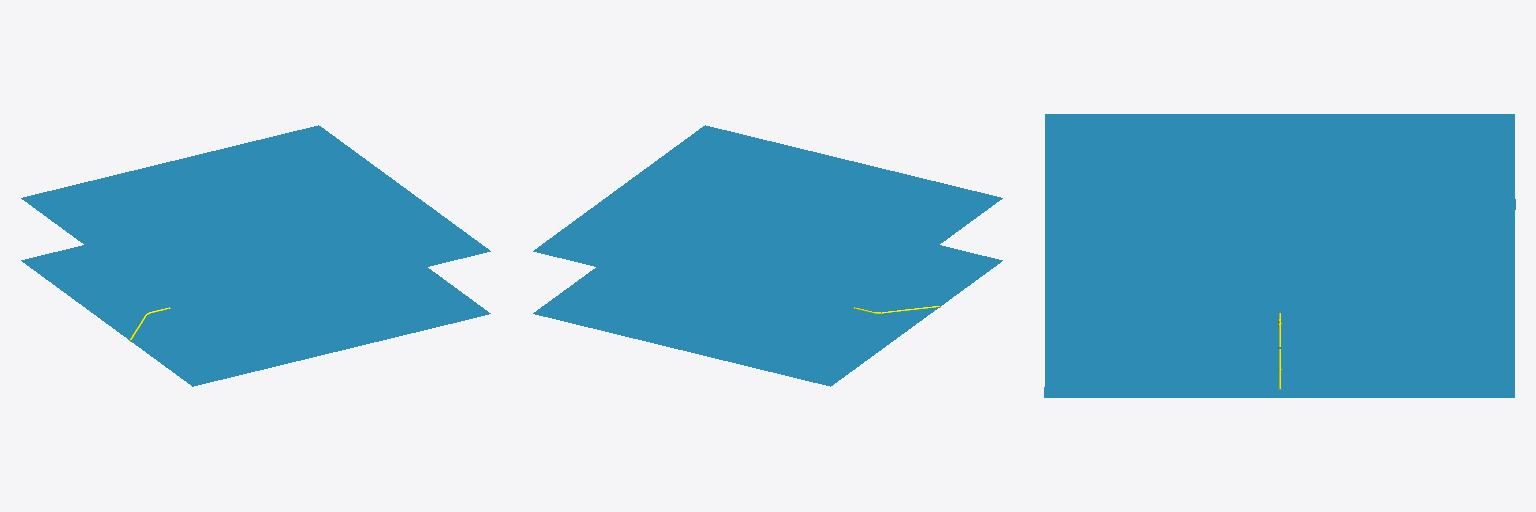
The robot description file, URDF, robot "min_world":
<?xml version="1.0"?>

<robot name="min_world">

    <link name="base_link">
        <visual>
            <geometry>
                <mesh filename="package://remaro_worlds/models/terrains/min_world.dae"/>
            </geometry>
            <origin rpy="0 0 1.57" xyz="0 0 -20"/>
        </visual>
        <collision>
            <geometry>
                <mesh filename="package://remaro_worlds/models/terrains/min_world.dae"/>
            </geometry>
            <origin rpy="0 0 1.57" xyz="0 0 -20"/>
        </collision>
        <inertial>
            <mass value="1" />
            <origin xyz="0 0 0" rpy="0 0 0" />
            <inertia ixx="1" ixy="0" ixz="0" iyy="1" iyz="0" izz="1" />
        </inertial>        
    </link>

    <link name="surface">
        <visual>
            <geometry>
                <mesh filename="package://remaro_worlds/models/water/min_world.dae"/>
            </geometry>
            <origin rpy="0 0 0" xyz="0 0 0"/>
        </visual>
        <collision>
            <geometry>
                <mesh filename="package://remaro_worlds/models/water/min_world.dae"/>
            </geometry>
            <origin rpy="0 0 0" xyz="0 0 0"/>
        </collision>
        <inertial>
            <mass value="1" />
            <origin xyz="0 0 0" rpy="0 0 0" />
            <inertia ixx="1" ixy="0" ixz="0" iyy="1" iyz="0" izz="1" />
        </inertial>  
    </link>

    <joint name="base_to_surface" type="fixed">
        <parent link="base_link"/>
        <child link="surface"/>
        <origin xyz="0 0 0"/>
    </joint>

    <link name="anchor">
        <visual>
            <geometry>
                <mesh filename="package://remaro_worlds/models/objects/anchor.dae"/>
            </geometry>
            <origin rpy="2.9 0.53 0.96" xyz="-13 -1.5 -20"/>
        </visual>
        <collision>
            <geometry>
                <mesh filename="package://remaro_worlds/models/objects/anchor.dae"/>
            </geometry>
            <origin rpy="-0.24 3.67 -2.18" xyz="-13 -1.5 -20"/>
        </collision>
        <inertial>
            <mass value="1" />
            <origin xyz="0 0 0" rpy="0 0 0" />
            <inertia ixx="1" ixy="0" ixz="0" iyy="1" iyz="0" izz="1" />
        </inertial>  
    </link>

    <joint name="base_to_anchor" type="fixed">
        <parent link="base_link"/>
        <child link="anchor"/>
        <origin xyz="0 0 0"/>
    </joint>

    <link name="container">
        <visual>
            <geometry>
                <mesh filename="package://remaro_worlds/models/objects/container.dae"/>
            </geometry>
            <origin rpy="2.27 1.40 1.57" xyz="40 -4.5 -19.4"/>
        </visual>
        <collision>
            <geometry>
                <mesh filename="package://remaro_worlds/models/objects/container.dae"/>
            </geometry>
            <origin rpy="2.27 1.40 1.57" xyz="40 -4.5 -19.4"/>
        </collision>
        <inertial>
            <mass value="1" />
            <origin xyz="0 0 0" rpy="0 0 0" />
            <inertia ixx="1" ixy="0" ixz="0" iyy="1" iyz="0" izz="1" />
        </inertial>  
    </link>

    <joint name="base_to_container" type="fixed">
        <parent link="base_link"/>
        <child link="container"/>
        <origin xyz="0 0 0"/>
    </joint>

    <link name="segment1">
        <visual>
            <geometry>
                <mesh filename="package://remaro_worlds/models/pipes/clipped_vA.dae"/>
            </geometry>
            <origin rpy="0 0 2.36" xyz="-51.56 -15.14 -20"/>
        </visual>
        <collision>
            <geometry>
                <mesh filename="package://remaro_worlds/models/pipes/clipped_vA.dae"/>
            </geometry>
            <origin rpy="0 0 2.36" xyz="-51.56 -15.14 -20"/>
        </collision>
        <inertial>
            <mass value="1" />
            <origin xyz="0 0 0" rpy="0 0 0" />
            <inertia ixx="1" ixy="0" ixz="0" iyy="1" iyz="0" izz="1" />
        </inertial>  
    </link>

    <joint name="base_to_segment1" type="fixed">
        <parent link="base_link"/>
        <child link="segment1"/>
        <origin xyz="0 0 0"/>
    </joint>

    <link name="segment2">
        <visual>
            <geometry>
                <mesh filename="package://remaro_worlds/models/pipes/straight.dae"/>
            </geometry>
            <origin rpy="0 0 2.36" xyz="-44.49 -8.07 -20"/>
        </visual>
        <collision>
            <geometry>
                <mesh filename="package://remaro_worlds/models/pipes/straight.dae"/>
            </geometry>
            <origin rpy="0 0 2.36" xyz="-44.49 -8.07 -20"/>
        </collision>
        <inertial>
            <mass value="1" />
            <origin xyz="0 0 0" rpy="0 0 0" />
            <inertia ixx="1" ixy="0" ixz="0" iyy="1" iyz="0" izz="1" />
        </inertial>  
    </link>

    <joint name="base_to_segment2" type="fixed">
        <parent link="base_link"/>
        <child link="segment2"/>
        <origin xyz="0 0 0"/>
    </joint>

    <link name="segment3">
        <visual>
            <geometry>
                <mesh filename="package://remaro_worlds/models/pipes/bent.dae"/>
            </geometry>
            <origin rpy="0 3.14 2.36" xyz="-37.41 -1 -20"/>
        </visual>
        <collision>
            <geometry>
                <mesh filename="package://remaro_worlds/models/pipes/bent.dae"/>
            </geometry>
            <origin rpy="0 3.14 2.36" xyz="-37.41 -1 -20"/>
        </collision>
        <inertial>
            <mass value="1" />
            <origin xyz="0 0 0" rpy="0 0 0" />
            <inertia ixx="1" ixy="0" ixz="0" iyy="1" iyz="0" izz="1" />
        </inertial>  
    </link>

    <joint name="base_to_segment3" type="fixed">
        <parent link="base_link"/>
        <child link="segment3"/>
        <origin xyz="0 0 0"/>
    </joint>

    <link name="segment4">
        <visual>
            <geometry>
                <mesh filename="package://remaro_worlds/models/pipes/straight.dae"/>
            </geometry>
            <origin rpy="0 0 1.57" xyz="-35 0 -20"/>
        </visual>
        <collision>
            <geometry>
                <mesh filename="package://remaro_worlds/models/pipes/straight.dae"/>
            </geometry>
            <origin rpy="0 0 1.57" xyz="-35 0 -20"/>
        </collision>
        <inertial>
            <mass value="1" />
            <origin xyz="0 0 0" rpy="0 0 0" />
            <inertia ixx="1" ixy="0" ixz="0" iyy="1" iyz="0" izz="1" />
        </inertial>  
    </link>

    <joint name="base_to_segment4" type="fixed">
        <parent link="base_link"/>
        <child link="segment4"/>
        <origin xyz="0 0 0"/>
    </joint>

    <link name="segment5">
        <visual>
            <geometry>
                <mesh filename="package://remaro_worlds/models/pipes/anode.dae"/>
            </geometry>
            <origin rpy="0 0 1.57" xyz="-25 0 -20"/>
        </visual>
        <collision>
            <geometry>
                <mesh filename="package://remaro_worlds/models/pipes/anode.dae"/>
            </geometry>
            <origin rpy="0 0 1.57" xyz="-25 0 -20"/>
        </collision>
        <inertial>
            <mass value="1" />
            <origin xyz="0 0 0" rpy="0 0 0" />
            <inertia ixx="1" ixy="0" ixz="0" iyy="1" iyz="0" izz="1" />
        </inertial>  
    </link>

    <joint name="base_to_segment5" type="fixed">
        <parent link="base_link"/>
        <child link="segment5"/>
        <origin xyz="0 0 0"/>
    </joint>

    <link name="segment6">
        <visual>
            <geometry>
                <mesh filename="package://remaro_worlds/models/pipes/dented.dae"/>
            </geometry>
            <origin rpy="0 0 1.57" xyz="-15 0 -20"/>
        </visual>
        <collision>
            <geometry>
                <mesh filename="package://remaro_worlds/models/pipes/dented.dae"/>
            </geometry>
            <origin rpy="0 0 1.57" xyz="-15 0 -20"/>
        </collision>
        <inertial>
            <mass value="1" />
            <origin xyz="0 0 0" rpy="0 0 0" />
            <inertia ixx="1" ixy="0" ixz="0" iyy="1" iyz="0" izz="1" />
        </inertial>  
    </link>

    <joint name="base_to_segment6" type="fixed">
        <parent link="base_link"/>
        <child link="segment6"/>
        <origin xyz="0 0 0"/>
    </joint>

    <link name="segment7">
        <visual>
            <geometry>
                <mesh filename="package://remaro_worlds/models/pipes/straight.dae"/>
            </geometry>
            <origin rpy="0 0 1.57" xyz="-5 0 -20"/>
        </visual>
        <collision>
            <geometry>
                <mesh filename="package://remaro_worlds/models/pipes/straight.dae"/>
            </geometry>
            <origin rpy="0 0 1.57" xyz="-5 0 -20"/>
        </collision>
        <inertial>
            <mass value="1" />
            <origin xyz="0 0 0" rpy="0 0 0" />
            <inertia ixx="1" ixy="0" ixz="0" iyy="1" iyz="0" izz="1" />
        </inertial>  
    </link>

    <joint name="base_to_segment7" type="fixed">
        <parent link="base_link"/>
        <child link="segment7"/>
        <origin xyz="0 0 0"/>
    </joint>

    <link name="segment8">
        <visual>
            <geometry>
                <mesh filename="package://remaro_worlds/models/pipes/warped.dae"/>
            </geometry>
            <origin rpy="0 0 1.57" xyz="5 0 -20"/>
        </visual>
        <collision>
            <geometry>
                <mesh filename="package://remaro_worlds/models/pipes/warped.dae"/>
            </geometry>
            <origin rpy="0 0 1.57" xyz="5 0 -20"/>
        </collision>
        <inertial>
            <mass value="1" />
            <origin xyz="0 0 0" rpy="0 0 0" />
            <inertia ixx="1" ixy="0" ixz="0" iyy="1" iyz="0" izz="1" />
        </inertial>  
    </link>

    <joint name="base_to_segment8" type="fixed">
        <parent link="base_link"/>
        <child link="segment8"/>
        <origin xyz="0 0 0"/>
    </joint>

    <link name="segment9">
        <visual>
            <geometry>
                <mesh filename="package://remaro_worlds/models/pipes/straight.dae"/>
            </geometry>
            <origin rpy="0 0 1.57" xyz="15 0 -20"/>
        </visual>
        <collision>
            <geometry>
                <mesh filename="package://remaro_worlds/models/pipes/straight.dae"/>
            </geometry>
            <origin rpy="0 0 1.57" xyz="15 0 -20"/>
        </collision>
        <inertial>
            <mass value="1" />
            <origin xyz="0 0 0" rpy="0 0 0" />
            <inertia ixx="1" ixy="0" ixz="0" iyy="1" iyz="0" izz="1" />
        </inertial>  
    </link>

    <joint name="base_to_segment9" type="fixed">
        <parent link="base_link"/>
        <child link="segment9"/>
        <origin xyz="0 0 0"/>
    </joint>

    <link name="segment10">
        <visual>
            <geometry>
                <mesh filename="package://remaro_worlds/models/pipes/valve.dae"/>
            </geometry>
            <origin rpy="0 0 1.57" xyz="25 0 -20"/>
        </visual>
        <collision>
            <geometry>
                <mesh filename="package://remaro_worlds/models/pipes/valve.dae"/>
            </geometry>
            <origin rpy="0 0 1.57" xyz="25 0 -20"/>
        </collision>
        <inertial>
            <mass value="1" />
            <origin xyz="0 0 0" rpy="0 0 0" />
            <inertia ixx="1" ixy="0" ixz="0" iyy="1" iyz="0" izz="1" />
        </inertial>  
    </link>

    <joint name="base_to_segment10" type="fixed">
        <parent link="base_link"/>
        <child link="segment10"/>
        <origin xyz="0 0 0"/>
    </joint>

    <link name="segment11">
        <visual>
            <geometry>
                <mesh filename="package://remaro_worlds/models/pipes/straight.dae"/>
            </geometry>
            <origin rpy="0 0 1.57" xyz="26 0 -20"/>
        </visual>
        <collision>
            <geometry>
                <mesh filename="package://remaro_worlds/models/pipes/straight.dae"/>
            </geometry>
            <origin rpy="0 0 1.57" xyz="26 0 -20"/>
        </collision>
        <inertial>
            <mass value="1" />
            <origin xyz="0 0 0" rpy="0 0 0" />
            <inertia ixx="1" ixy="0" ixz="0" iyy="1" iyz="0" izz="1" />
        </inertial>  
    </link>

    <joint name="base_to_segment11" type="fixed">
        <parent link="base_link"/>
        <child link="segment11"/>
        <origin xyz="0 0 0"/>
    </joint>

    <link name="segment12">
        <visual>
            <geometry>
                <mesh filename="package://remaro_worlds/models/pipes/straight.dae"/>
            </geometry>
            <origin rpy="0 0 1.57" xyz="36 0 -20"/>
        </visual>
        <collision>
            <geometry>
                <mesh filename="package://remaro_worlds/models/pipes/straight.dae"/>
            </geometry>
            <origin rpy="0 0 1.57" xyz="36 0 -20"/>
        </collision>
        <inertial>
            <mass value="1" />
            <origin xyz="0 0 0" rpy="0 0 0" />
            <inertia ixx="1" ixy="0" ixz="0" iyy="1" iyz="0" izz="1" />
        </inertial>  
    </link>

    <joint name="base_to_segment12" type="fixed">
        <parent link="base_link"/>
        <child link="segment12"/>
        <origin xyz="0 0 0"/>
    </joint>

    <link name="segment13">
        <visual>
            <geometry>
                <mesh filename="package://remaro_worlds/models/pipes/clipped_vB.dae"/>
            </geometry>
            <origin rpy="0 0 1.57" xyz="46 0 -20"/>
        </visual>
        <collision>
            <geometry>
                <mesh filename="package://remaro_worlds/models/pipes/clipped_vB.dae"/>
            </geometry>
            <origin rpy="0 0 1.57" xyz="46 0 -20"/>
        </collision>
        <inertial>
            <mass value="1" />
            <origin xyz="0 0 0" rpy="0 0 0" />
            <inertia ixx="1" ixy="0" ixz="0" iyy="1" iyz="0" izz="1" />
        </inertial>  
    </link>

    <joint name="base_to_segment13" type="fixed">
        <parent link="base_link"/>
        <child link="segment13"/>
        <origin xyz="0 0 0"/>
    </joint>

    <link name="drum1">
        <visual>
            <geometry>
                <mesh filename="package://remaro_worlds/models/objects/drum.dae"/>
            </geometry>
            <origin rpy="1.57 -0.79 1.05" xyz="-39.5 -2 -19.8"/>
        </visual>
        <collision>
            <geometry>
                <mesh filename="package://remaro_worlds/models/objects/drum.dae"/>
            </geometry>
            <origin rpy="1.57 -0.79 1.05" xyz="-39.5 -2 -19.8"/>
        </collision>
        <inertial>
            <mass value="1" />
            <origin xyz="0 0 0" rpy="0 0 0" />
            <inertia ixx="1" ixy="0" ixz="0" iyy="1" iyz="0" izz="1" />
        </inertial>  
    </link>

    <joint name="base_to_drum1" type="fixed">
        <parent link="base_link"/>
        <child link="drum1"/>
        <origin xyz="0 0 0"/>
    </joint>

    <link name="drum2">
        <visual>
            <geometry>
                <mesh filename="package://remaro_worlds/models/objects/drum.dae"/>
            </geometry>
            <origin rpy="1.83 0 1.57" xyz="-44 2 -19.8"/>
        </visual>
        <collision>
            <geometry>
                <mesh filename="package://remaro_worlds/models/objects/drum.dae"/>
            </geometry>
            <origin rpy="1.83 0 1.57" xyz="-44 2 -19.8"/>
        </collision>
        <inertial>
            <mass value="1" />
            <origin xyz="0 0 0" rpy="0 0 0" />
            <inertia ixx="1" ixy="0" ixz="0" iyy="1" iyz="0" izz="1" />
        </inertial>  
    </link>

    <joint name="base_to_drum2" type="fixed">
        <parent link="base_link"/>
        <child link="drum2"/>
        <origin xyz="0 0 0"/>
    </joint>

    <link name="drum3">
        <visual>
            <geometry>
                <mesh filename="package://remaro_worlds/models/objects/drum.dae"/>
            </geometry>
            <origin rpy="1.48 0 2.44" xyz="-43 2.5 -19.7"/>
        </visual>
        <collision>
            <geometry>
                <mesh filename="package://remaro_worlds/models/objects/drum.dae"/>
            </geometry>
            <origin rpy="1.48 0 2.44" xyz="-43 2.5 -19.7"/>
        </collision>
        <inertial>
            <mass value="1" />
            <origin xyz="0 0 0" rpy="0 0 0" />
            <inertia ixx="1" ixy="0" ixz="0" iyy="1" iyz="0" izz="1" />
        </inertial>  
    </link>

    <joint name="base_to_drum3" type="fixed">
        <parent link="base_link"/>
        <child link="drum3"/>
        <origin xyz="0 0 0"/>
    </joint>

    <link name="drum4">
        <visual>
            <geometry>
                <mesh filename="package://remaro_worlds/models/objects/drum.dae"/>
            </geometry>
            <origin rpy="1.66 0 1.22" xyz="-43 1.5 -19.8"/>
        </visual>
        <collision>
            <geometry>
                <mesh filename="package://remaro_worlds/models/objects/drum.dae"/>
            </geometry>
            <origin rpy="1.66 0 1.22" xyz="-43 1.5 -19.8"/>
        </collision>
        <inertial>
            <mass value="1" />
            <origin xyz="0 0 0" rpy="0 0 0" />
            <inertia ixx="1" ixy="0" ixz="0" iyy="1" iyz="0" izz="1" />
        </inertial>  
    </link>

    <joint name="base_to_drum4" type="fixed">
        <parent link="base_link"/>
        <child link="drum4"/>
        <origin xyz="0 0 0"/>
    </joint>

    <link name="drum5">
        <visual>
            <geometry>
                <mesh filename="package://remaro_worlds/models/objects/drum.dae"/>
            </geometry>
            <origin rpy="1.40 0 1.22" xyz="-44 3 -19.8"/>
        </visual>
        <collision>
            <geometry>
                <mesh filename="package://remaro_worlds/models/objects/drum.dae"/>
            </geometry>
            <origin rpy="1.40 0 1.22" xyz="-44 3 -19.8"/>
        </collision>
        <inertial>
            <mass value="1" />
            <origin xyz="0 0 0" rpy="0 0 0" />
            <inertia ixx="1" ixy="0" ixz="0" iyy="1" iyz="0" izz="1" />
        </inertial>  
    </link>

    <joint name="base_to_drum5" type="fixed">
        <parent link="base_link"/>
        <child link="drum5"/>
        <origin xyz="0 0 0"/>
    </joint>

    <link name="drum6">
        <visual>
            <geometry>
                <mesh filename="package://remaro_worlds/models/objects/drum.dae"/>
            </geometry>
            <origin rpy="2.36 -0.87 0.58" xyz="-43.4 2 -19.4"/>
        </visual>
        <collision>
            <geometry>
                <mesh filename="package://remaro_worlds/models/objects/drum.dae"/>
            </geometry>
            <origin rpy="2.36 -0.87 0.58" xyz="-43.4 2 -19.4"/>
        </collision>
        <inertial>
            <mass value="1" />
            <origin xyz="0 0 0" rpy="0 0 0" />
            <inertia ixx="1" ixy="0" ixz="0" iyy="1" iyz="0" izz="1" />
        </inertial>  
    </link>

    <joint name="base_to_drum6" type="fixed">
        <parent link="base_link"/>
        <child link="drum6"/>
        <origin xyz="0 0 0"/>
    </joint>

    <link name="drum7">
        <visual>
            <geometry>
                <mesh filename="package://remaro_worlds/models/objects/drum.dae"/>
            </geometry>
            <origin rpy="3.37 4.10 5.25" xyz="-43.5 3.1 -19.5"/>
        </visual>
        <collision>
            <geometry>
                <mesh filename="package://remaro_worlds/models/objects/drum.dae"/>
            </geometry>
            <origin rpy="3.37 4.10 5.25" xyz="-43.5 3.1 -19.5"/>
        </collision>
        <inertial>
            <mass value="1" />
            <origin xyz="0 0 0" rpy="0 0 0" />
            <inertia ixx="1" ixy="0" ixz="0" iyy="1" iyz="0" izz="1" />
        </inertial>  
    </link>

    <joint name="base_to_drum7" type="fixed">
        <parent link="base_link"/>
        <child link="drum7"/>
        <origin xyz="0 0 0"/>
    </joint>

</robot>

--- Facts derived from the render (not from the file) ---
The picture shows the robot from 3 angles, left to right: view 1: azimuth 30°, elevation 25°; view 2: azimuth 150°, elevation 25°; view 3: azimuth 270°, elevation 25°; orthographic projection.
Model min_world with 24 links and 23 joints (23 fixed), rooted at base_link, posed every joint at zero.
Links seen in each view (by area): view 1: surface, base_link; view 2: surface, base_link; view 3: surface, base_link.
Boxes of the visible links, bbox=[...] form: surface: bbox=[21, 125, 490, 323]; base_link: bbox=[21, 245, 490, 386]; surface: bbox=[533, 125, 1002, 323]; base_link: bbox=[533, 245, 1002, 386]; surface: bbox=[1045, 114, 1514, 312]; base_link: bbox=[1044, 199, 1515, 397].
Size in the robot's own frame: 100 by 100 by 21.11 metres.
14 mesh visuals loaded from 13 distinct referenced files (8 Collada DAE); not drawn: 10 (reference not matched to a file when rendering).
